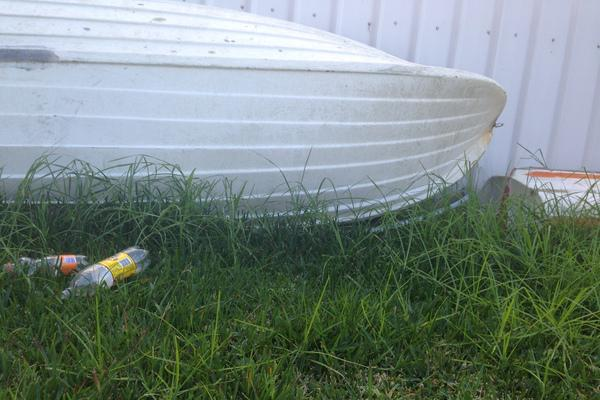Plastic Bottle: (61, 246, 151, 298), (2, 254, 88, 276)
